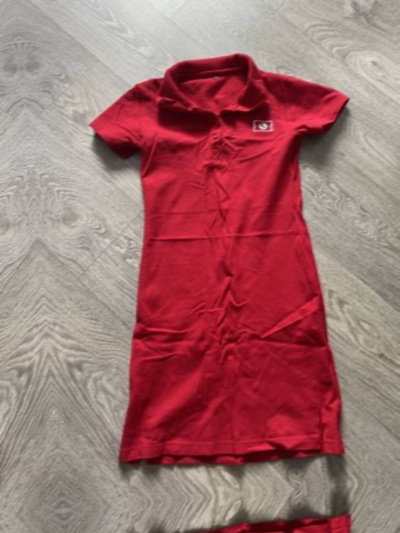Dress: (65, 38, 387, 492), (108, 495, 400, 533), (0, 72, 18, 527), (0, 530, 61, 533)
